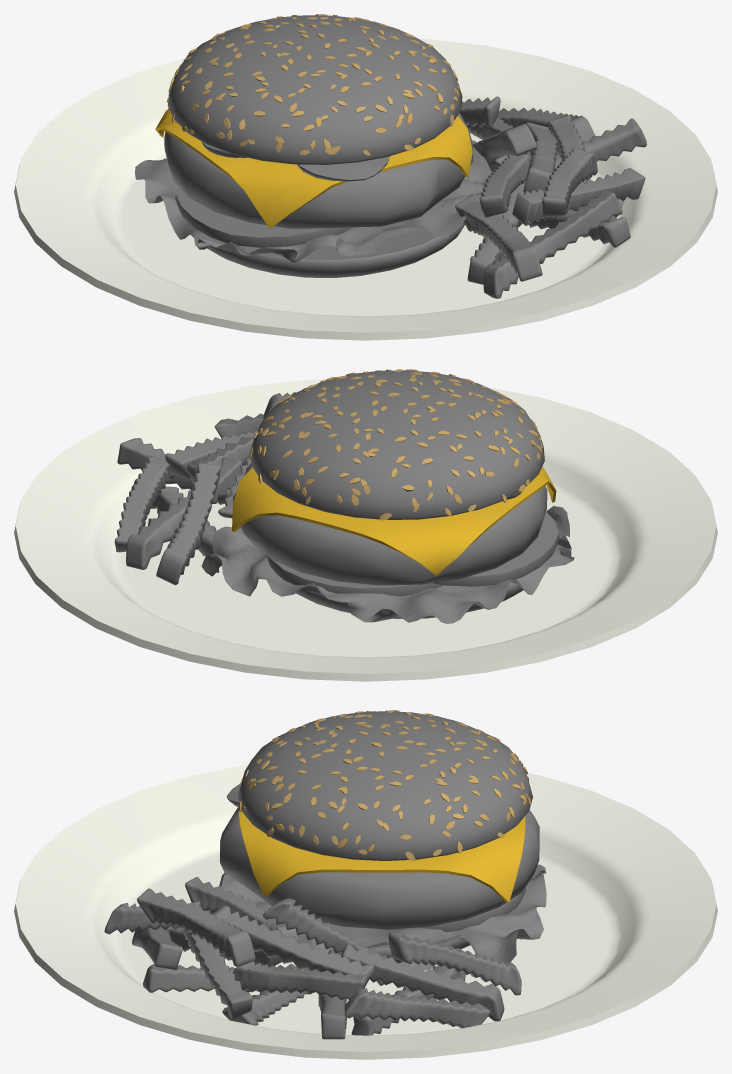
3 views of the same model, one above another, from view 1: azimuth 30°, elevation 25°; view 2: azimuth 150°, elevation 25°; view 3: azimuth 270°, elevation 25° (orthographic).
Parts seen in each view (by area): view 1: archmodels76_028_09, archmodels76_028_02, archmodels76_028_05, archmodels76_028_01, archmodels76_028_04, archmodels76_028_06, archmodels76_028_08, archmodels76_028_03, archmodels76_028_07; view 2: archmodels76_028_09, archmodels76_028_02, archmodels76_028_05, archmodels76_028_01, archmodels76_028_04, archmodels76_028_06, archmodels76_028_08, archmodels76_028_03; view 3: archmodels76_028_09, archmodels76_028_05, archmodels76_028_02, archmodels76_028_01, archmodels76_028_06, archmodels76_028_04, archmodels76_028_08, archmodels76_028_03.
Part boxes in pixels (x1,y1,x2,y2): archmodels76_028_09: [14, 38, 717, 340]; archmodels76_028_02: [167, 15, 464, 277]; archmodels76_028_05: [455, 96, 646, 298]; archmodels76_028_01: [164, 113, 473, 228]; archmodels76_028_04: [135, 146, 491, 262]; archmodels76_028_06: [155, 108, 472, 228]; archmodels76_028_08: [167, 14, 460, 155]; archmodels76_028_03: [175, 187, 353, 247]; archmodels76_028_07: [201, 141, 389, 181]; archmodels76_028_09: [14, 379, 717, 681]; archmodels76_028_02: [250, 370, 544, 618]; archmodels76_028_05: [114, 392, 295, 585]; archmodels76_028_01: [232, 463, 547, 585]; archmodels76_028_04: [201, 506, 574, 623]; archmodels76_028_06: [232, 466, 556, 575]; archmodels76_028_08: [249, 369, 542, 520]; archmodels76_028_03: [264, 512, 559, 596]; archmodels76_028_09: [14, 764, 717, 1059]; archmodels76_028_05: [104, 877, 521, 1039]; archmodels76_028_02: [219, 711, 532, 963]; archmodels76_028_01: [220, 807, 539, 929]; archmodels76_028_06: [239, 810, 525, 902]; archmodels76_028_04: [223, 864, 546, 970]; archmodels76_028_08: [238, 710, 531, 861]; archmodels76_028_03: [380, 887, 525, 932].
Bounding box in the file's own units: 10.97 × 3.17 × 10.97.
